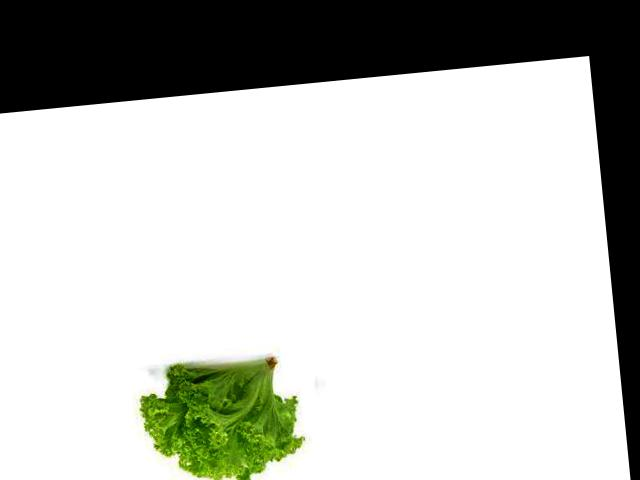lettuce: (145, 334, 305, 480)
